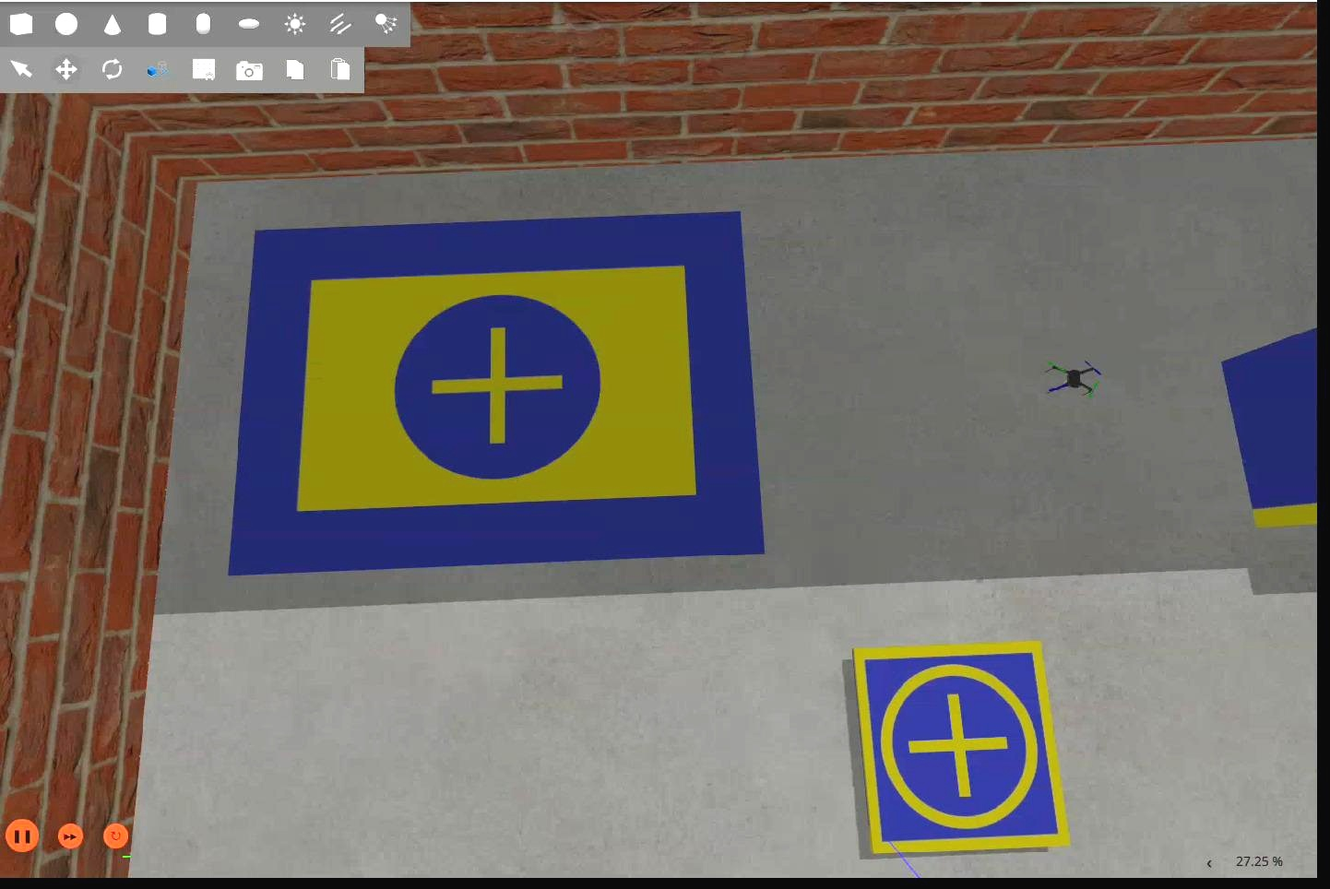large_base: (228, 212, 771, 575)
small_base: (853, 638, 1074, 857)
